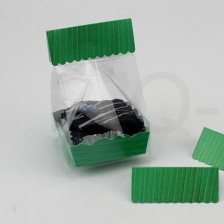snack: (39, 11, 158, 175)
